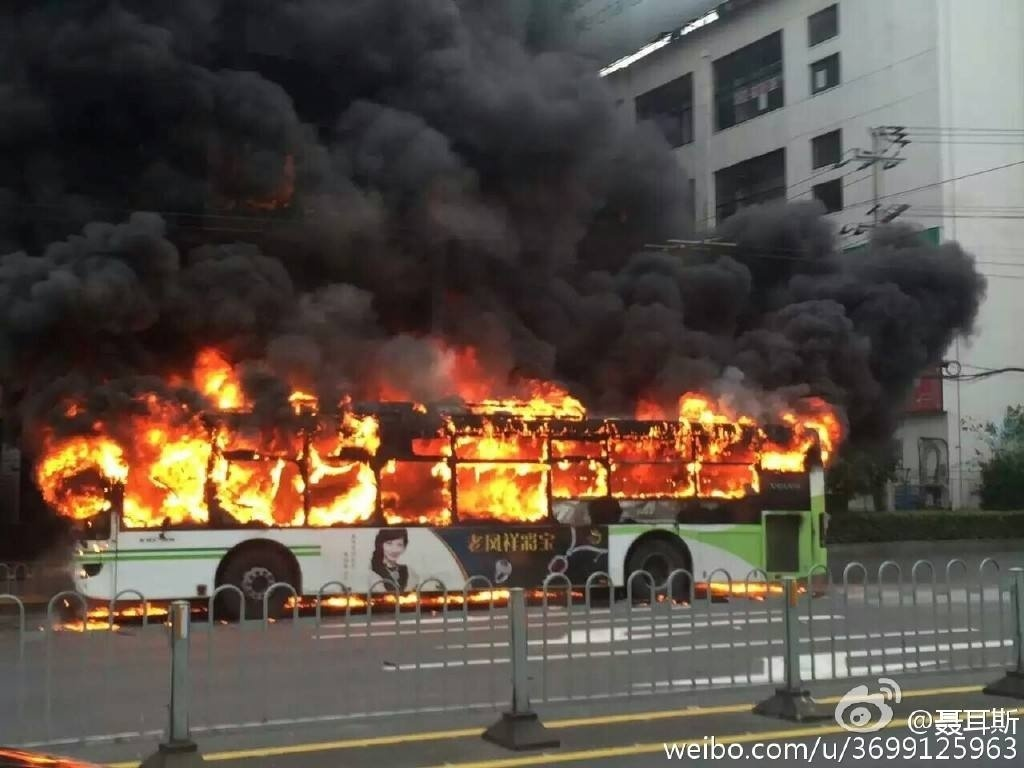fire: (5, 339, 865, 557)
